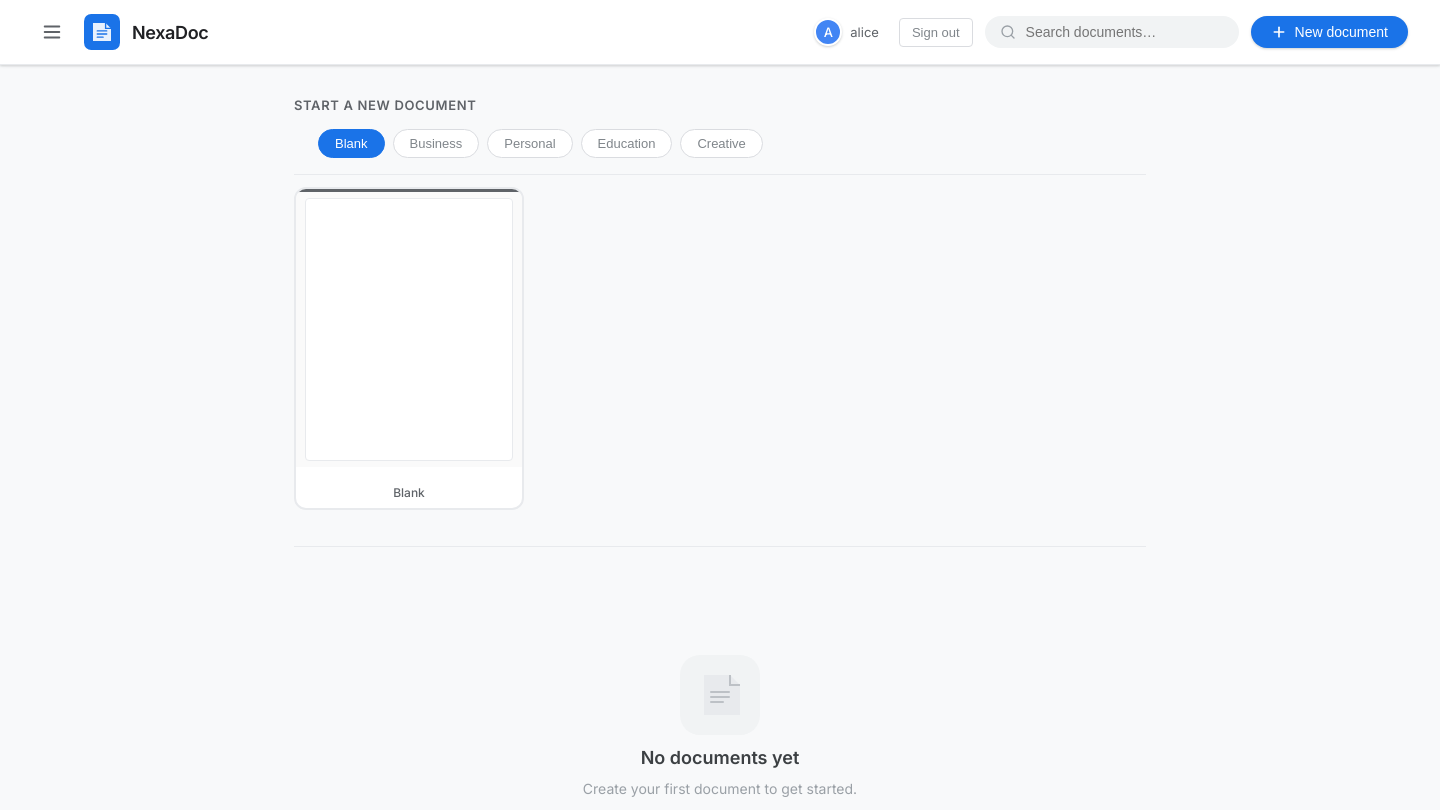
Test case: DocsPage › opens naming modal when a template is clicked
Expected: the text "Start a new document" is shown, [294,97,476,113]
# Click the Blank template card
Click the 2nd button titled "Start from scratch": (409,348) [294,187,524,510]
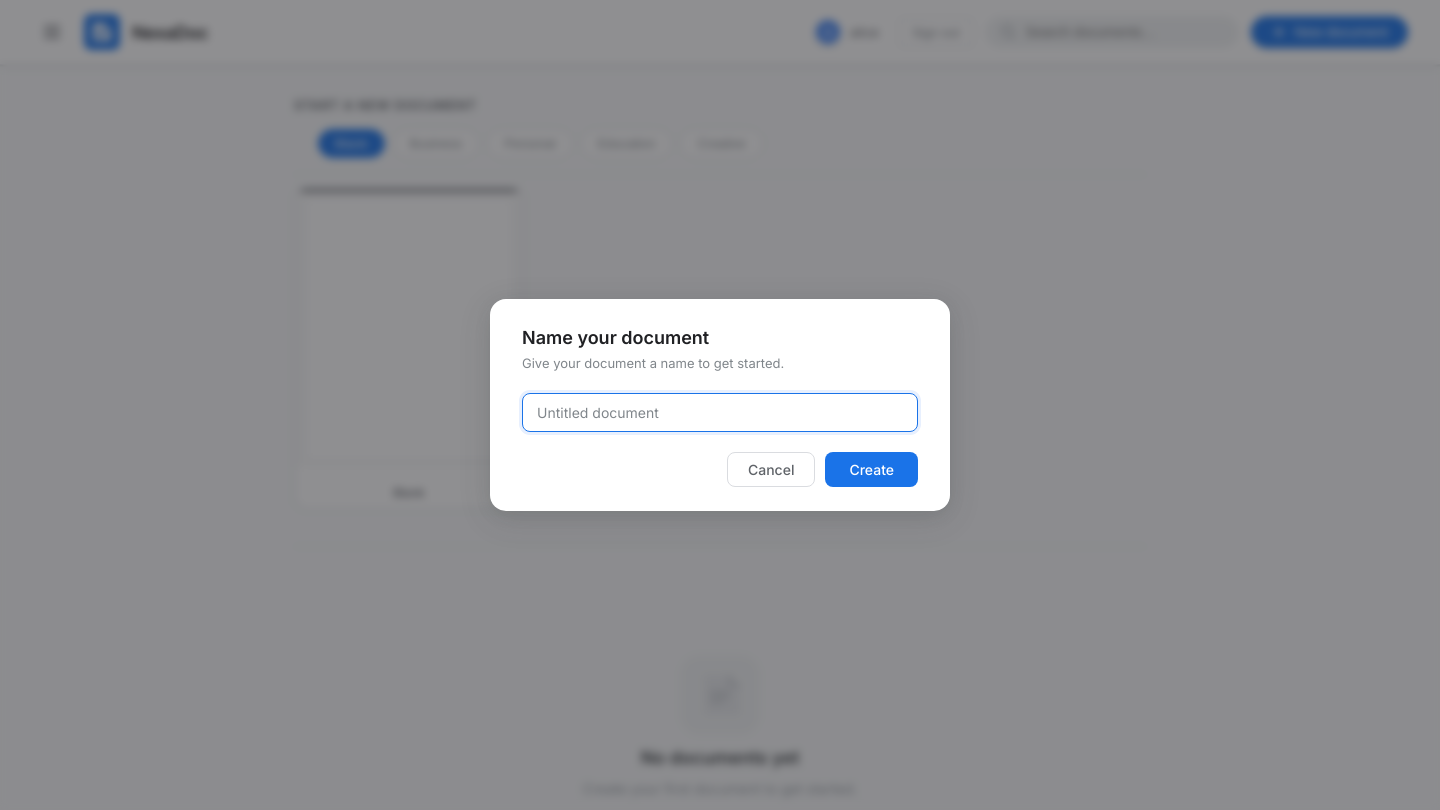
Expected: the heading "Name your document" is shown, [522,327,709,348]
Expected: the field with placeholder "Untitled document" is shown, [522,393,918,432]
